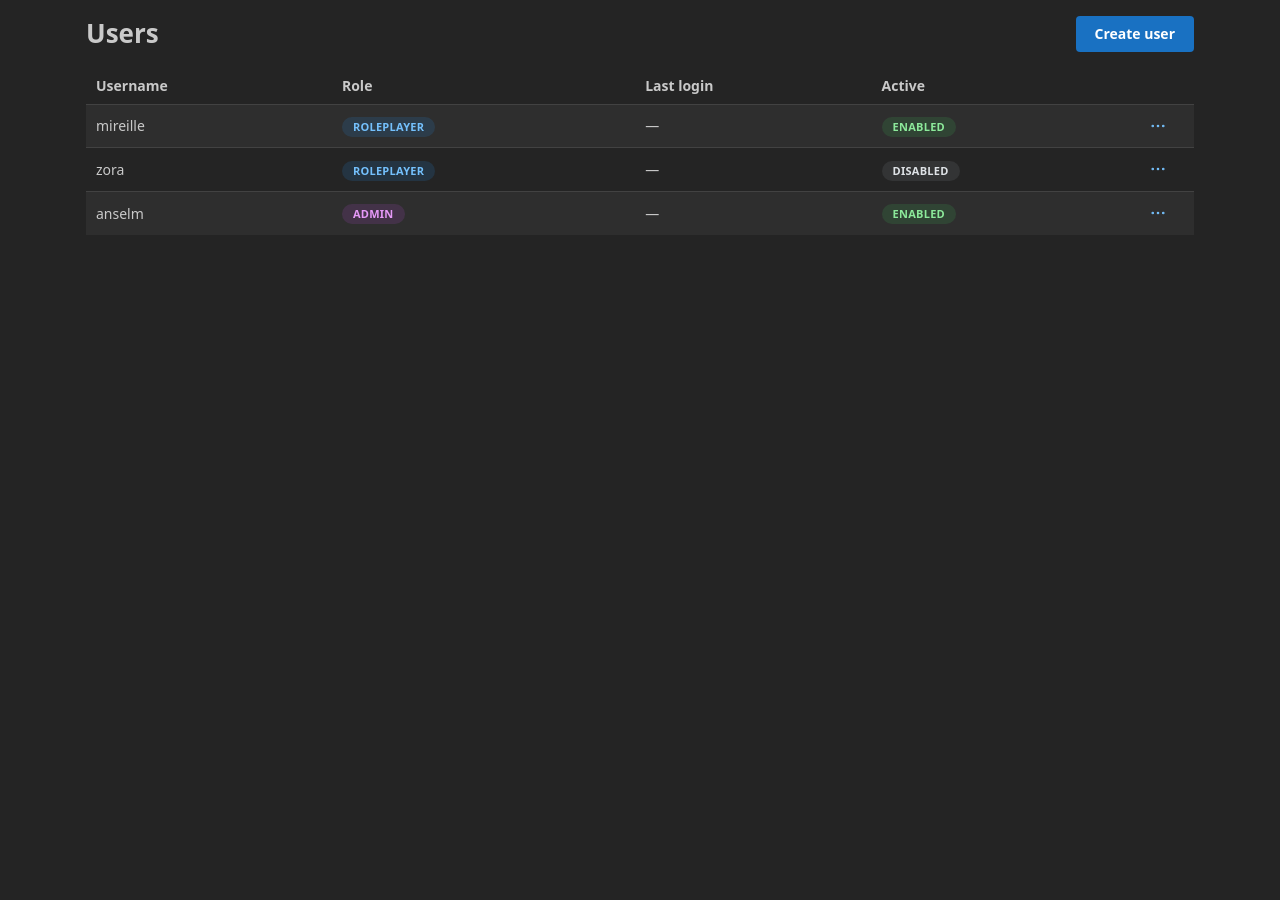
Test: Set Password on the Users page › a successful submit closes the modal — DoD-3
This screenshot has width=1280, height=900.
Click the submit button at (1158, 126), box [1144,112,1172,140]
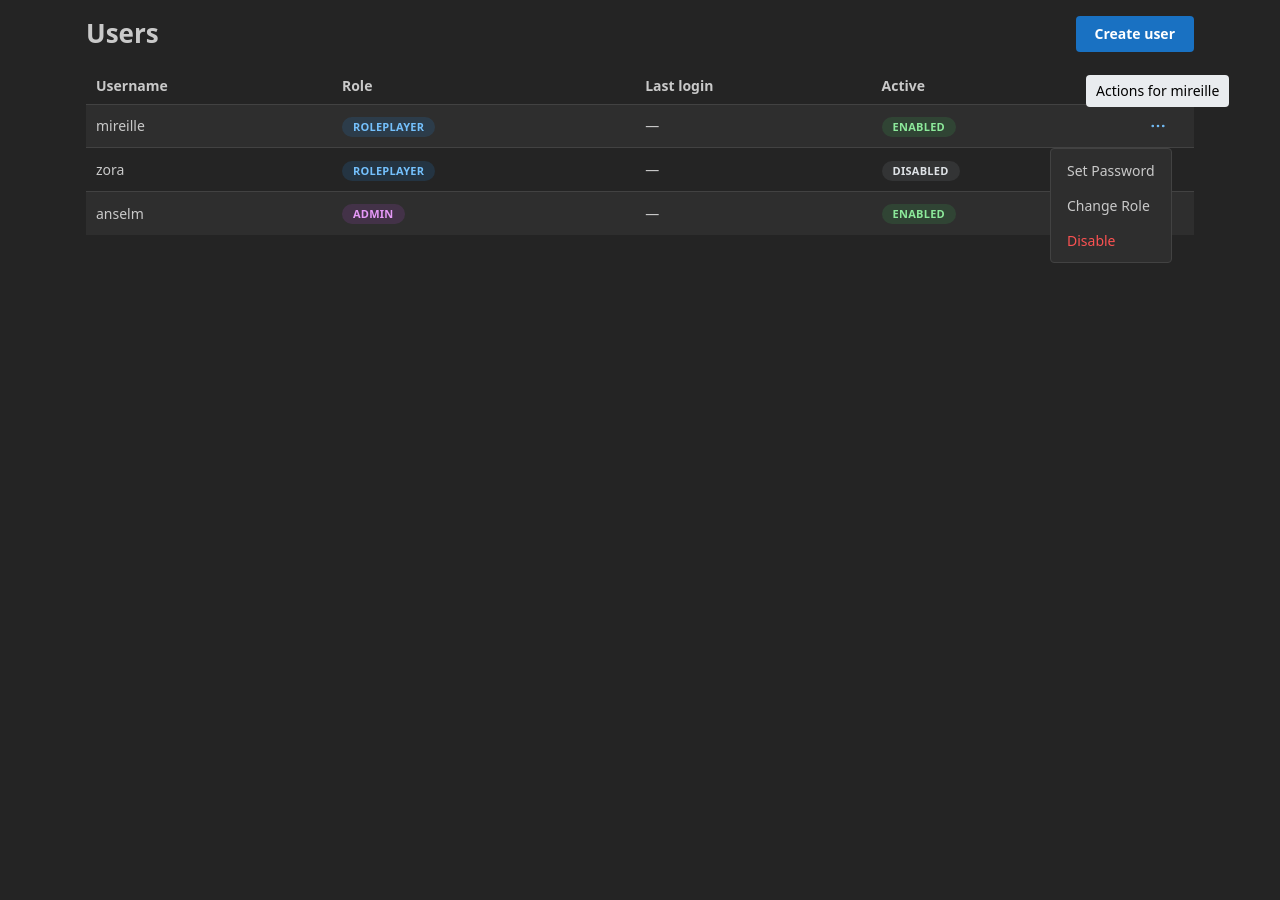
Click the menu item "Set Password" at (1111, 171), box [1055,153,1167,188]
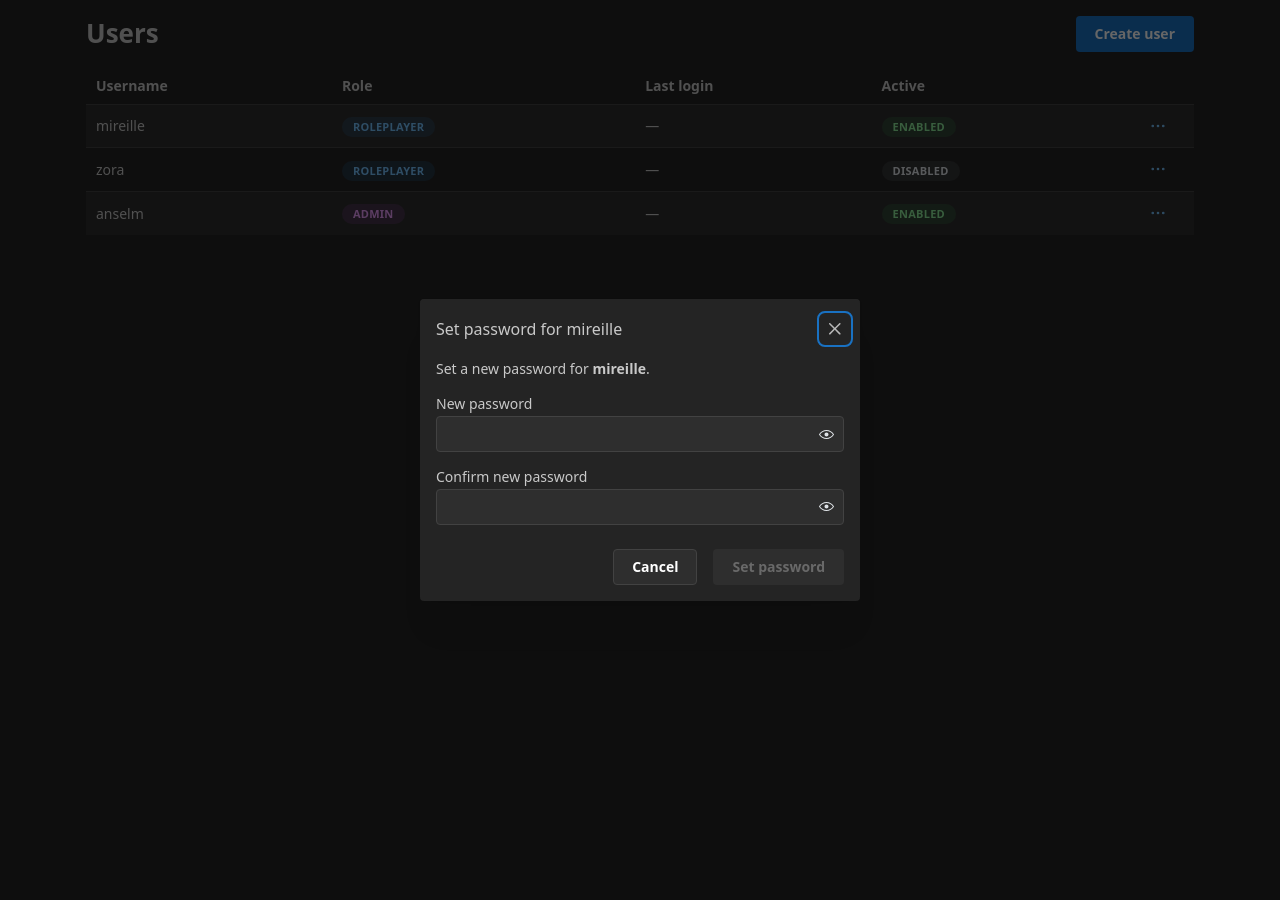
Type "Tq!9-new-horse" into the password field labelled "New password" at (640, 434), box [437,417,843,451]
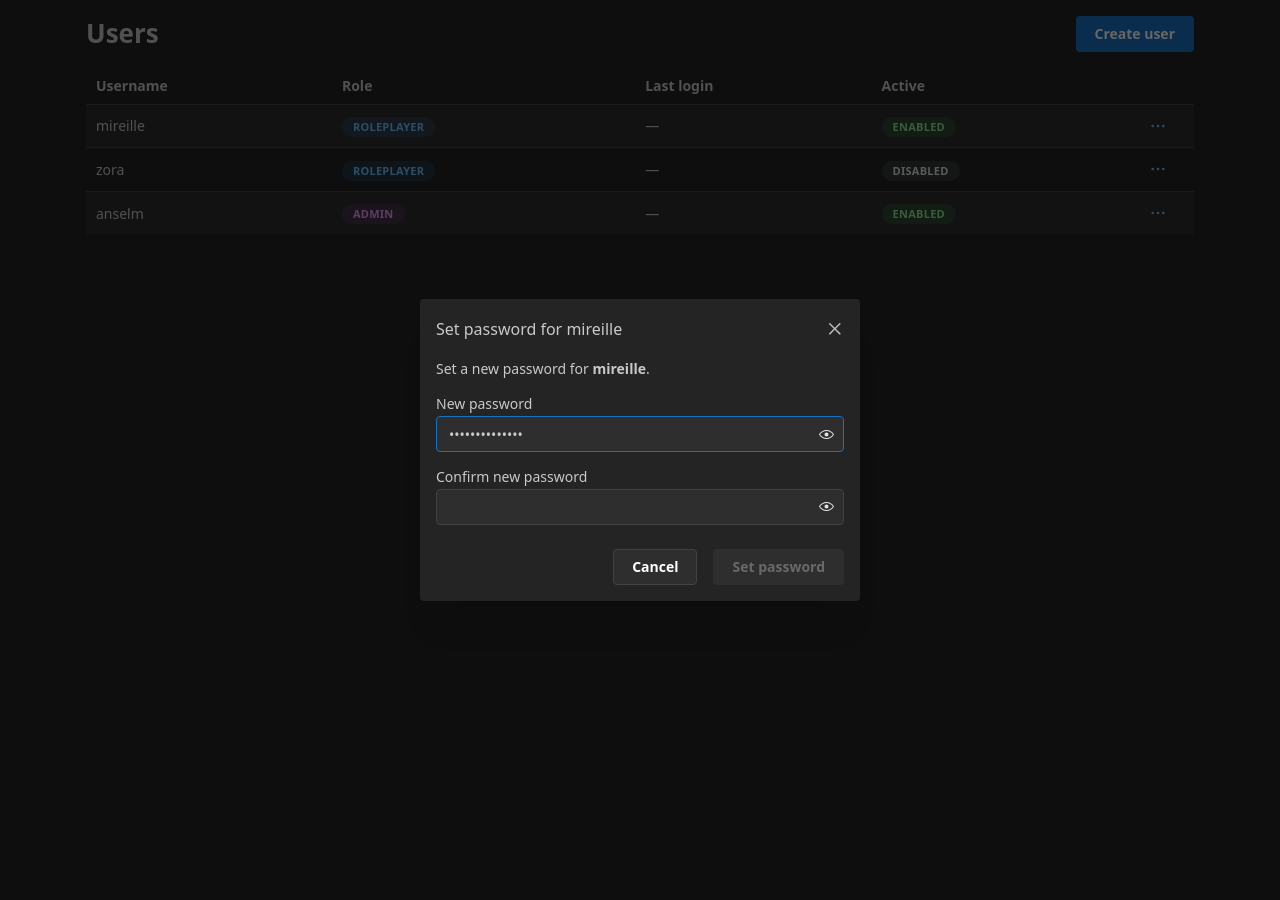
Type "Tq!9-new-horse" into the password field labelled "Confirm new password" at (640, 507), box [437,490,843,524]
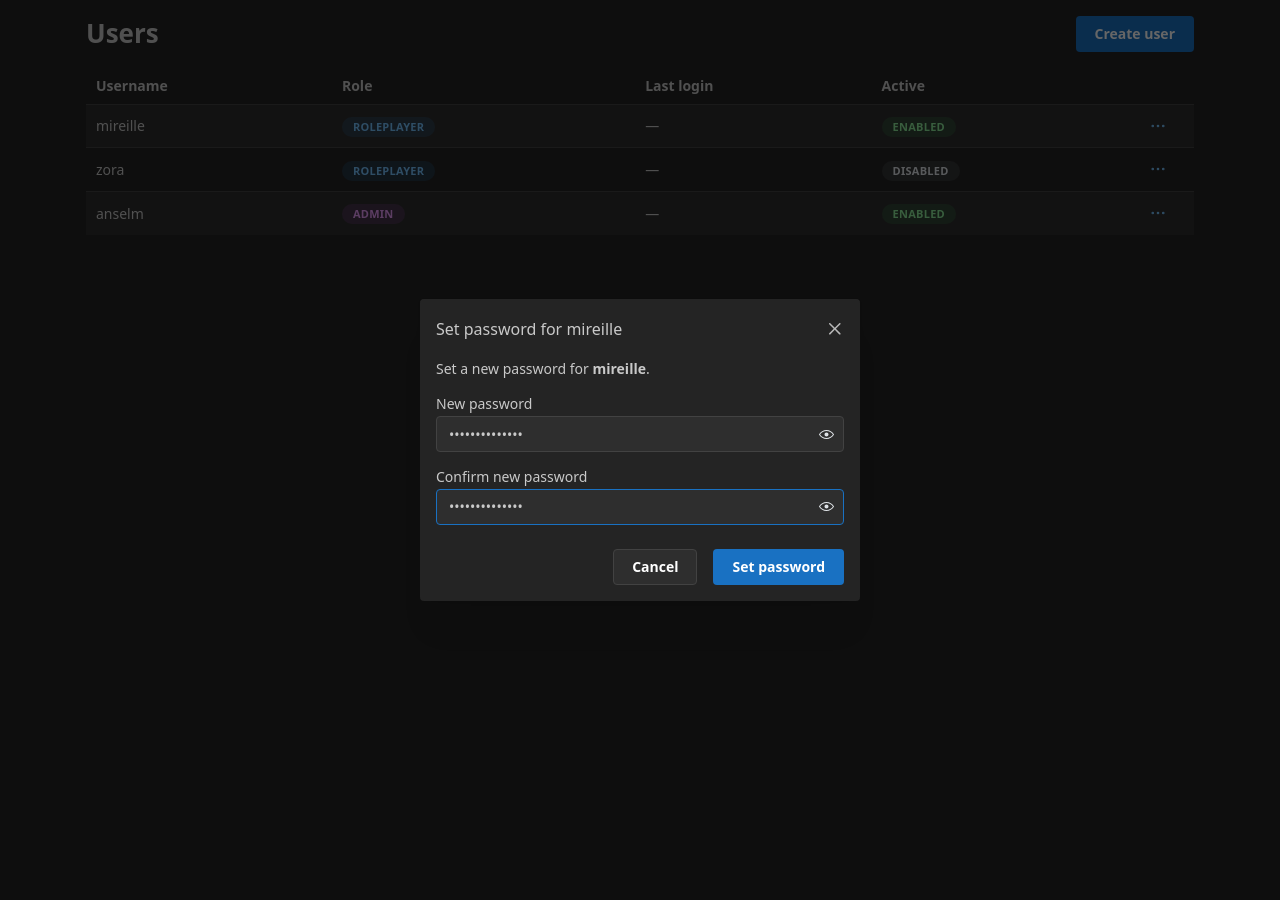
Click the button "Set password" at (779, 567), box [714,549,844,585]
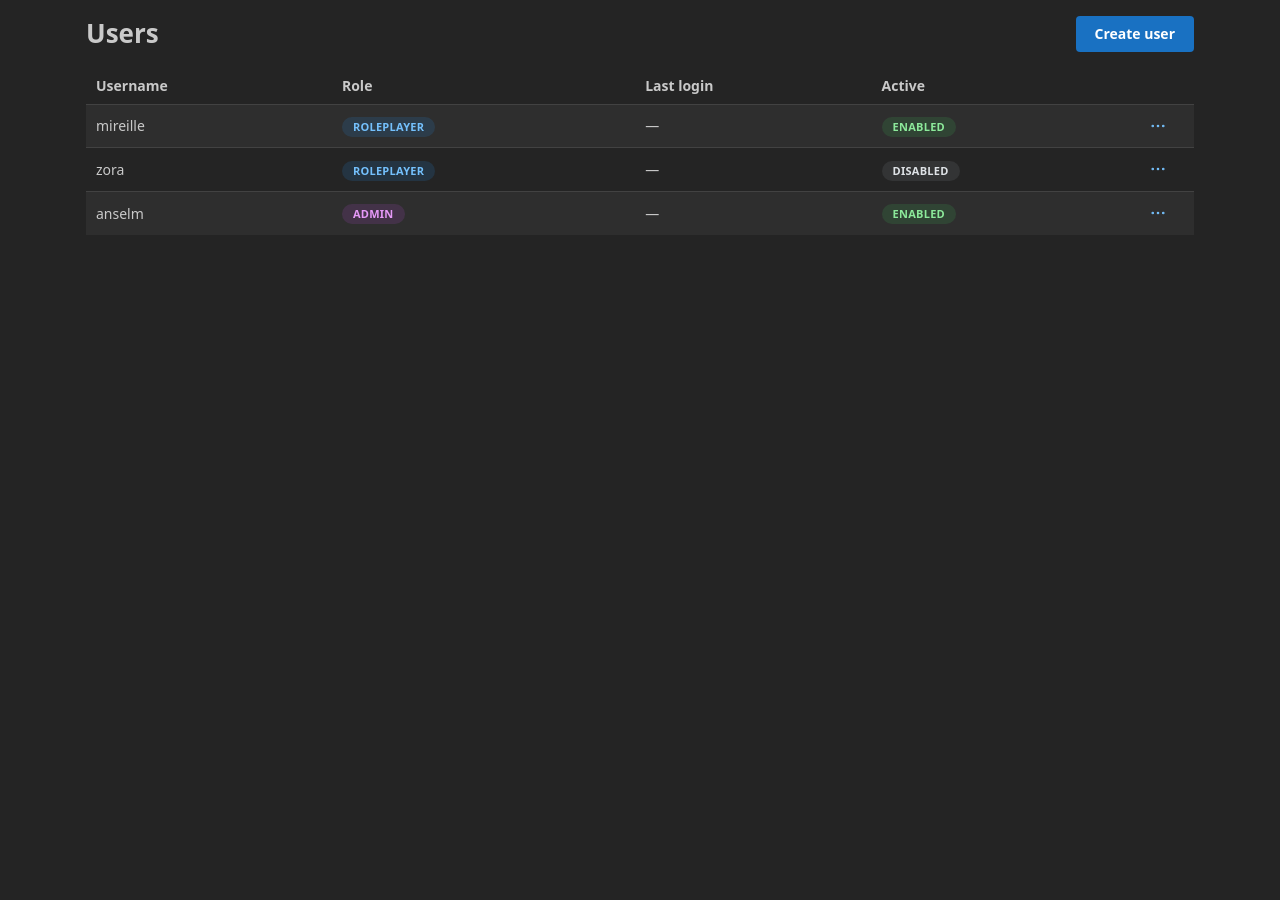
expect the dialog is gone: met
